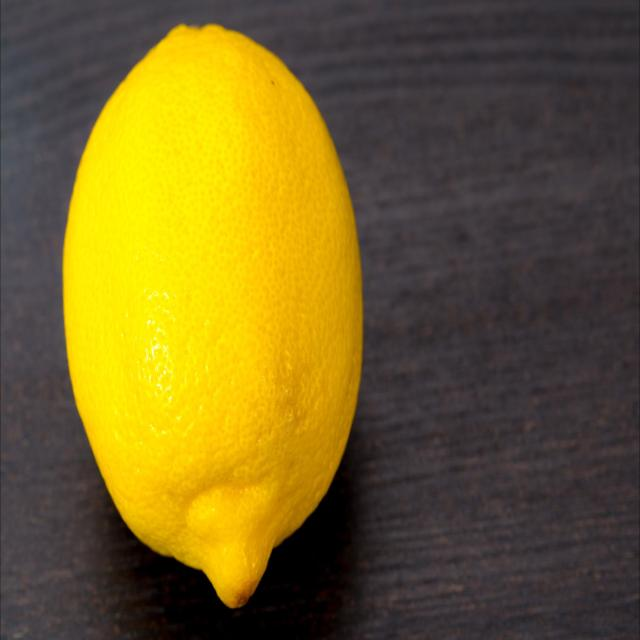lemon: (55, 17, 370, 618)
